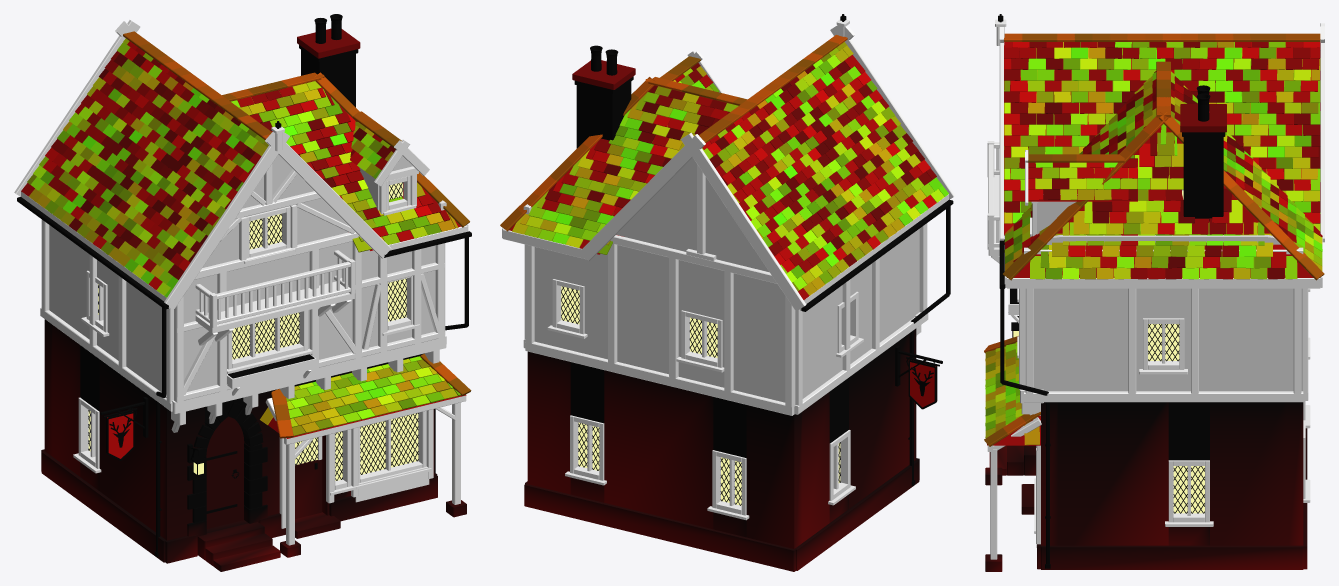
Rendered from SilverbrookTownhouse5.fbx.
The picture shows the model from 3 angles, left to right: view 1: azimuth 30°, elevation 25°; view 2: azimuth 150°, elevation 25°; view 3: azimuth 270°, elevation 25°; orthographic projection. The views are drawn at different scales.
Parts seen in each view (by area): view 1: SM_SBTownhouse5_Roof, SM_SBTownhouse5_Timber, SM_SBTownhouse5_Masonry, SM_SBTownhouse5_Plaster, SM_SBTownhouse5_Details; view 2: SM_SBTownhouse5_Masonry, SM_SBTownhouse5_Roof, SM_SBTownhouse5_Plaster, SM_SBTownhouse5_Timber, SM_SBTownhouse5_Details; view 3: SM_SBTownhouse5_Roof, SM_SBTownhouse5_Masonry, SM_SBTownhouse5_Plaster, SM_SBTownhouse5_Timber, SM_SBTownhouse5_Details.
Boxes of the visible parts, x1,y1,x2,y2 form: SM_SBTownhouse5_Roof: [21, 31, 471, 438]; SM_SBTownhouse5_Timber: [14, 20, 468, 545]; SM_SBTownhouse5_Masonry: [41, 28, 466, 571]; SM_SBTownhouse5_Plaster: [49, 154, 435, 394]; SM_SBTownhouse5_Details: [17, 14, 471, 556]; SM_SBTownhouse5_Masonry: [524, 60, 919, 571]; SM_SBTownhouse5_Roof: [500, 35, 948, 299]; SM_SBTownhouse5_Plaster: [534, 157, 919, 402]; SM_SBTownhouse5_Timber: [502, 19, 955, 520]; SM_SBTownhouse5_Details: [561, 14, 953, 505]; SM_SBTownhouse5_Roof: [984, 33, 1324, 446]; SM_SBTownhouse5_Masonry: [985, 104, 1307, 571]; SM_SBTownhouse5_Plaster: [1033, 194, 1293, 391]; SM_SBTownhouse5_Timber: [987, 19, 1324, 559]; SM_SBTownhouse5_Details: [998, 14, 1210, 568].
Size of the model in its own units: 727 by 895 by 598.
